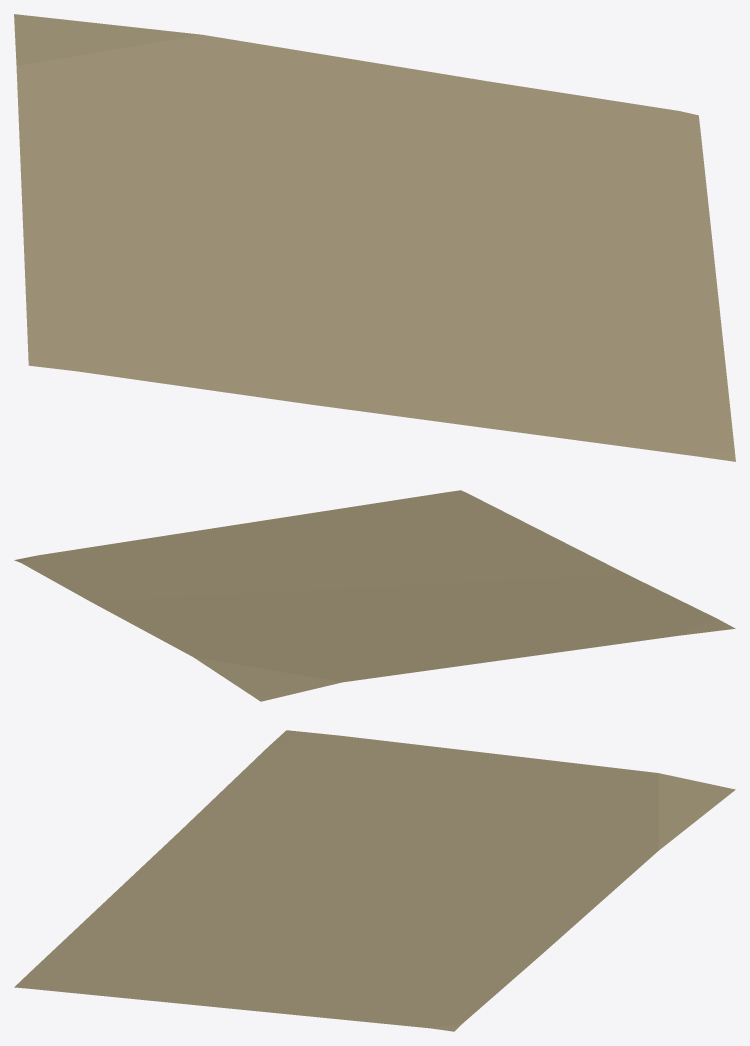
File: farm_-2_5_soil.glb
The picture shows the model from 3 angles, top to bottom: view 1: azimuth 30°, elevation 25°; view 2: azimuth 150°, elevation 25°; view 3: azimuth 270°, elevation 25°; orthographic projection. The views are drawn at different scales.
Visible parts, largest first — view 1: geometry_0; view 2: geometry_0; view 3: geometry_0.
Boxes of the visible parts, x1,y1,x2,y2 form: geometry_0: (14, 14, 735, 461); geometry_0: (14, 490, 735, 701); geometry_0: (14, 730, 735, 1031).
Size of the model in its own units: 85.42 by 15.68 by 91.69.
